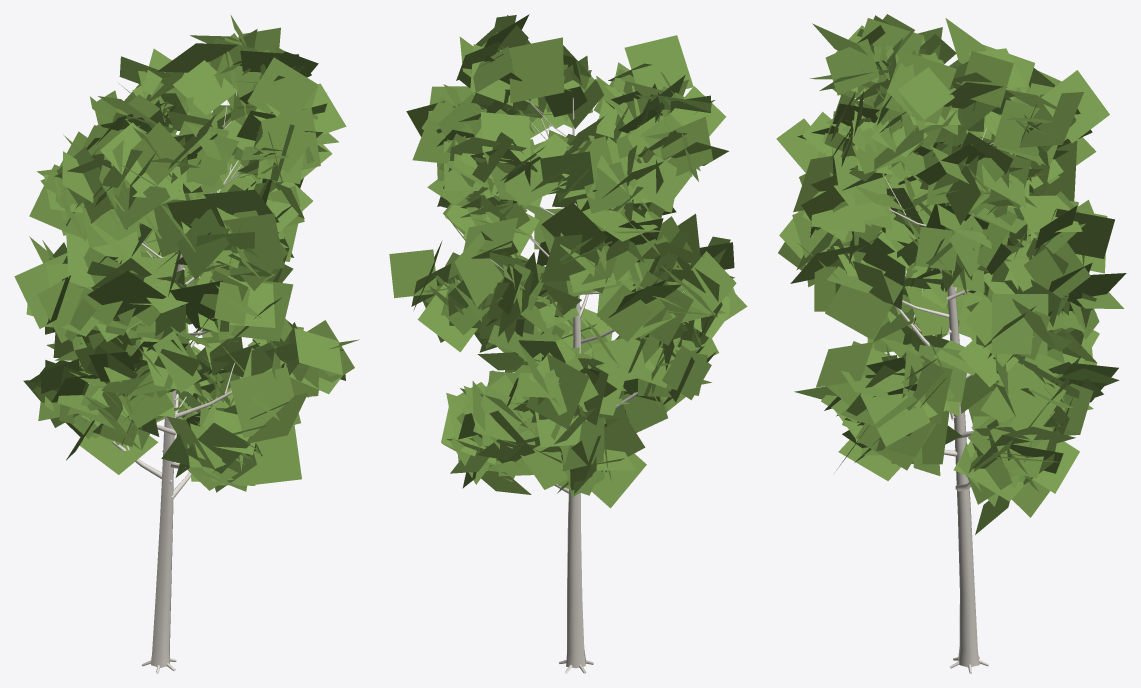
The model's file is birch-2-lod1.glb.
3 renders of one model, left to right at view 1: azimuth 30°, elevation 25°; view 2: azimuth 150°, elevation 25°; view 3: azimuth 270°, elevation 25°, orthographic. The views are drawn at different scales.
Parts seen in each view (by area): view 1: birch-2-lod1-foliage, birch-2-lod1-bark; view 2: birch-2-lod1-foliage, birch-2-lod1-bark; view 3: birch-2-lod1-foliage, birch-2-lod1-bark.
Boxes of the visible parts, x1,y1,x2,y2 form: birch-2-lod1-foliage: (14,15,359,492); birch-2-lod1-bark: (65,66,295,673); birch-2-lod1-foliage: (389,14,747,508); birch-2-lod1-bark: (485,97,683,673); birch-2-lod1-foliage: (776,14,1126,534); birch-2-lod1-bark: (810,78,1020,673).
Bounding box in the file's own units: 14.25 × 27.99 × 13.46.
